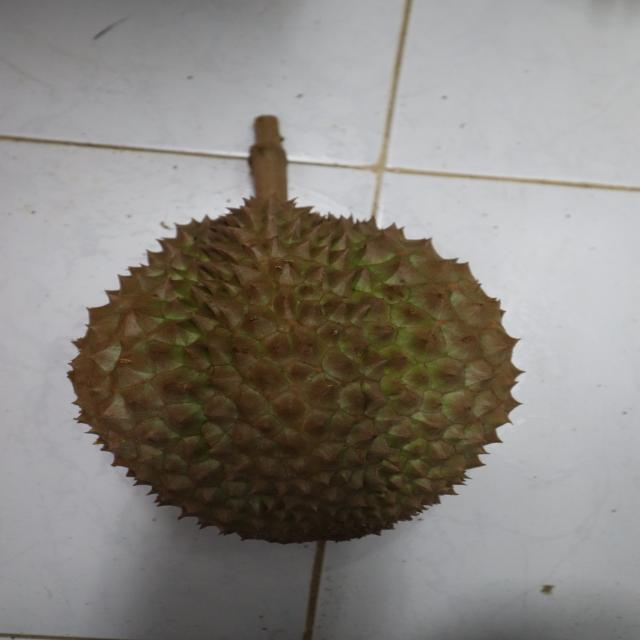mature: (56, 199, 526, 546)
